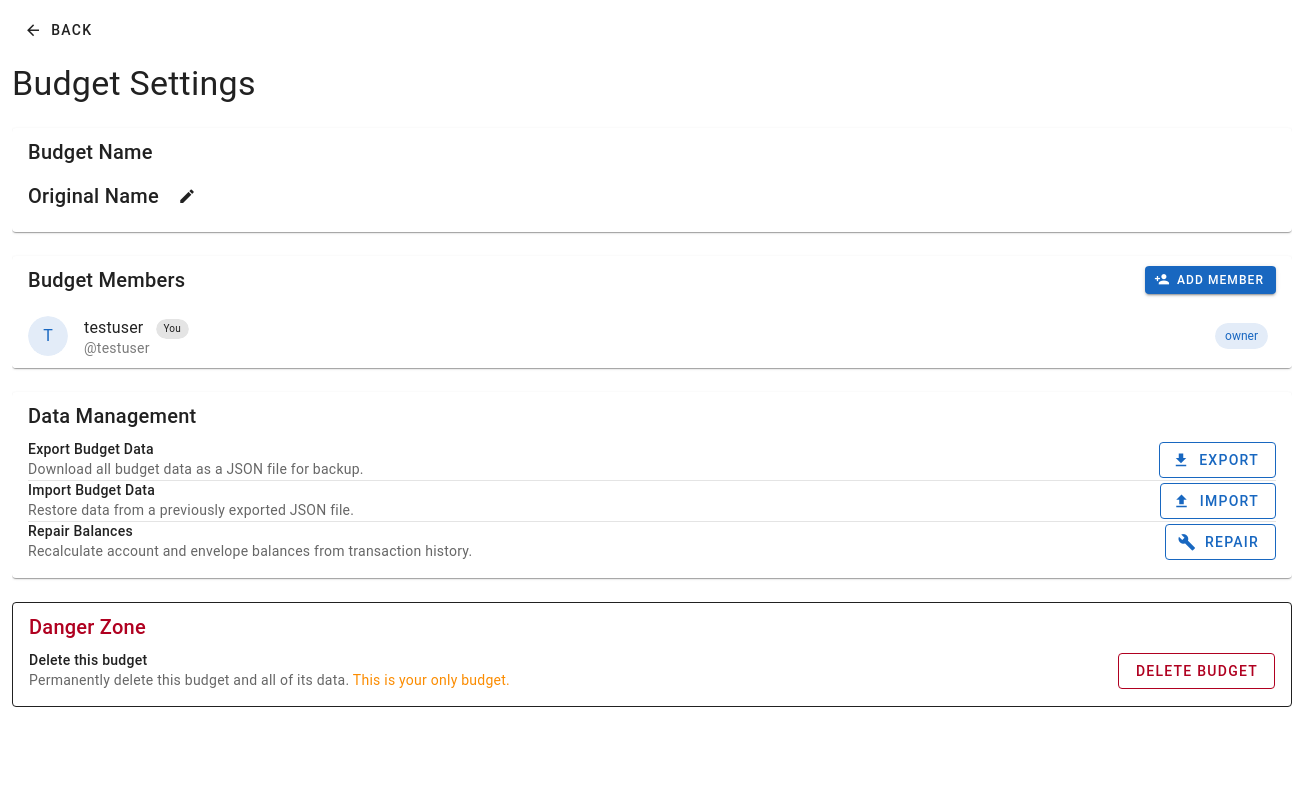
Test: BudgetSettingsView › Budget Name › can cancel rename without saving
Click the 2nd button at (187, 196), box [167,176,207,216]
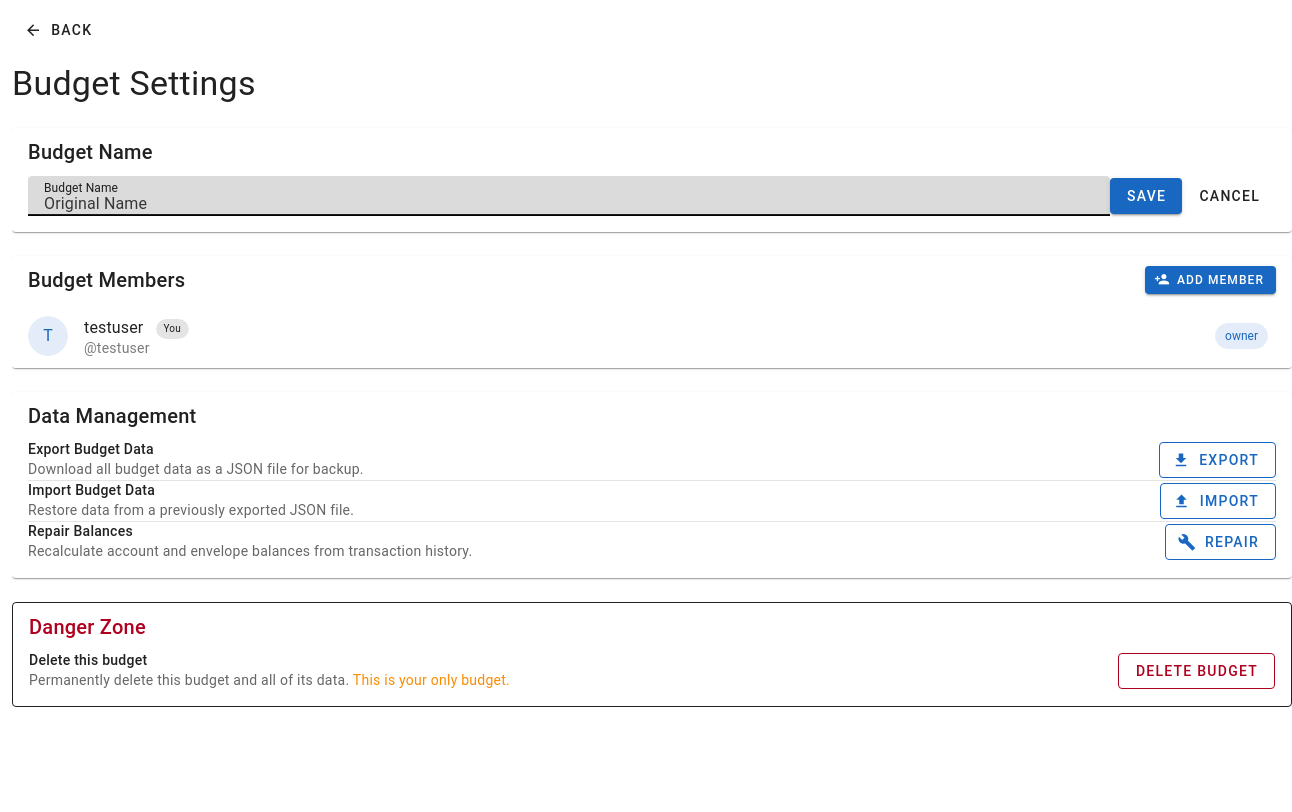
Expected: the text "Save" is shown, [1126,188,1166,204]
Expected: the text "Cancel" is shown, [1198,188,1260,204]
// Click Cancel
Click the button "Cancel" at (1229, 196), box [1182,178,1276,214]
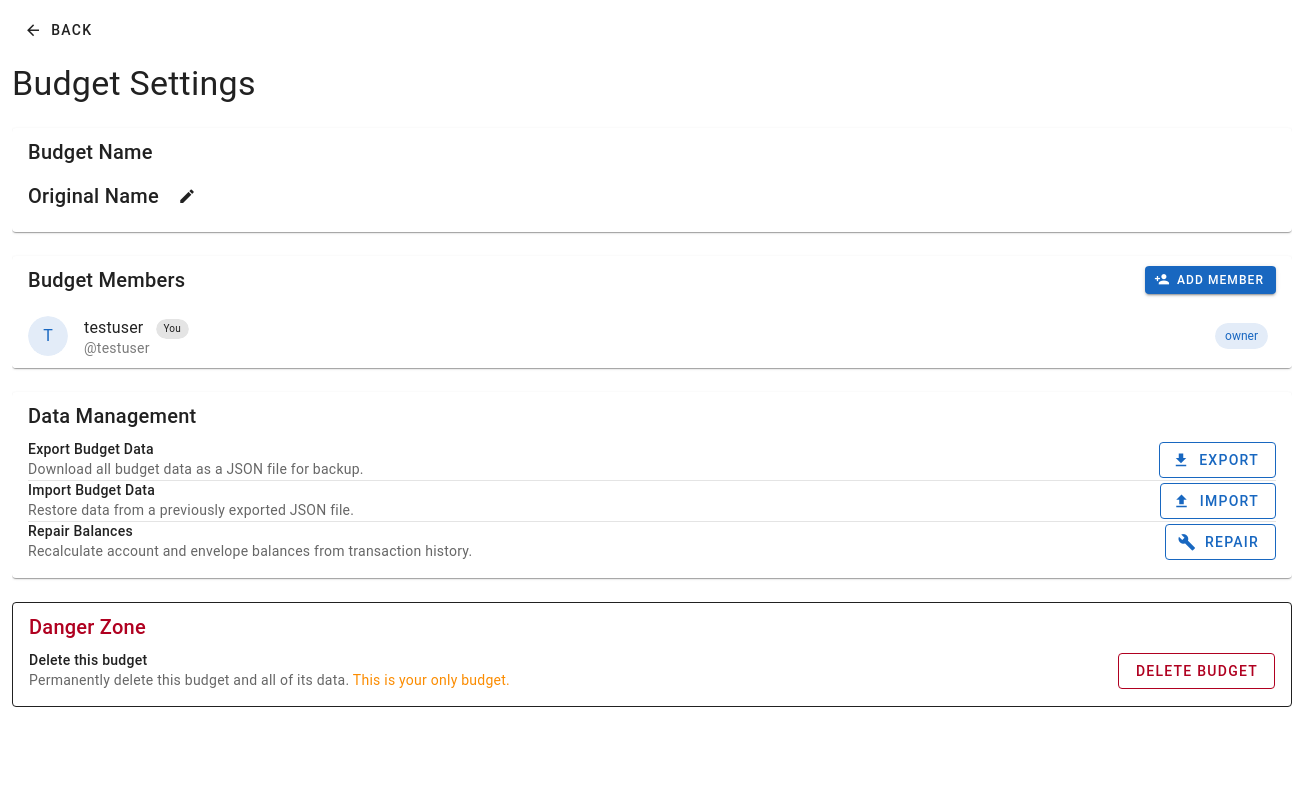
Expected: the text "Original Name" is shown, [28,180,159,212]
Expected: the text "Save" is gone
